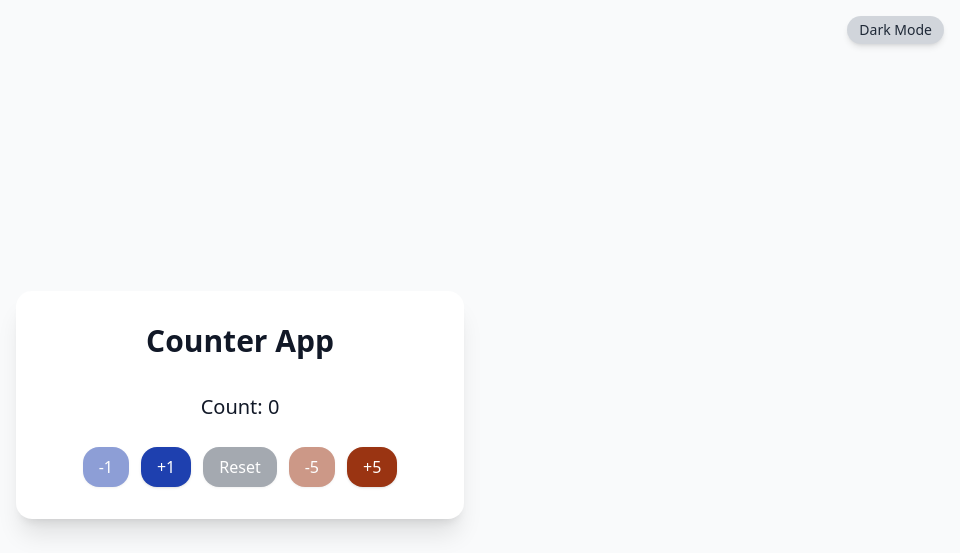
Test case: Counter App › disables the -5 button when count is less than 5
This screenshot has width=960, height=553.
Expected: the button "-5" is disabled, [289,447,335,487]
// Increment to 1, button should still be disabled
Step 1. Click the button "+1" → (166, 467), box [141,447,191,487]
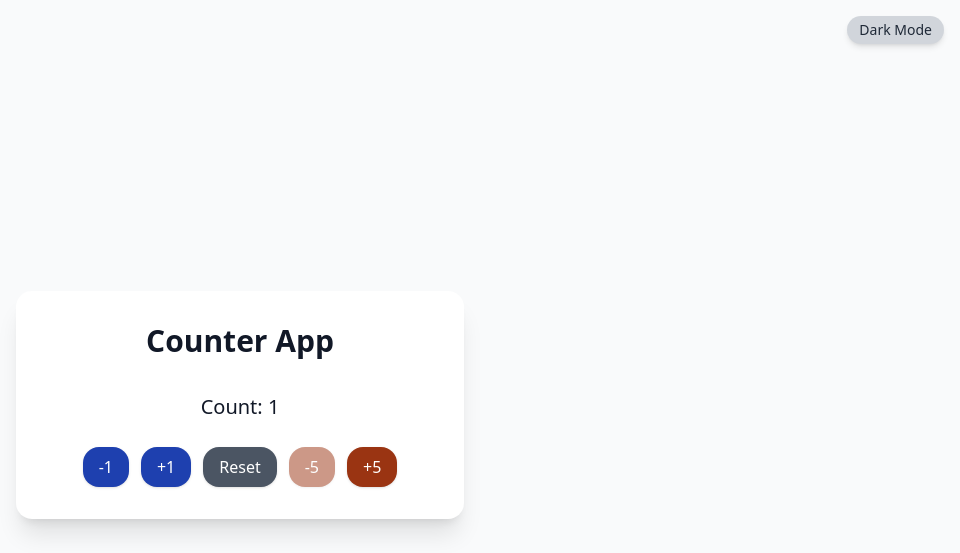
Expected: the button "-5" is disabled, [289,447,335,487]
Now the text "Count: 1" is shown, box [201,393,279,421]
Step 2. Click the button "+1" → (166, 467), box [141,447,191,487]
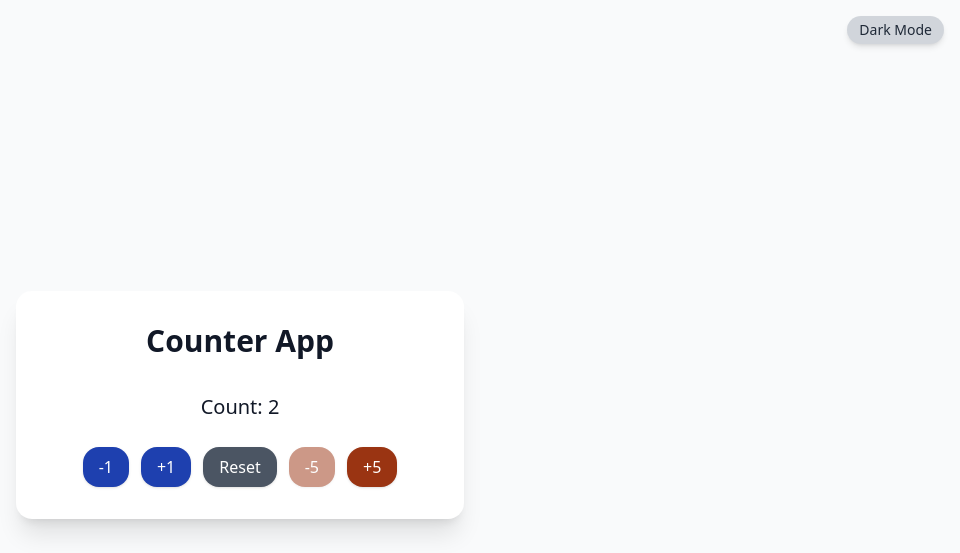
Step 3. Click the button "+1" → (166, 467), box [141,447,191,487]
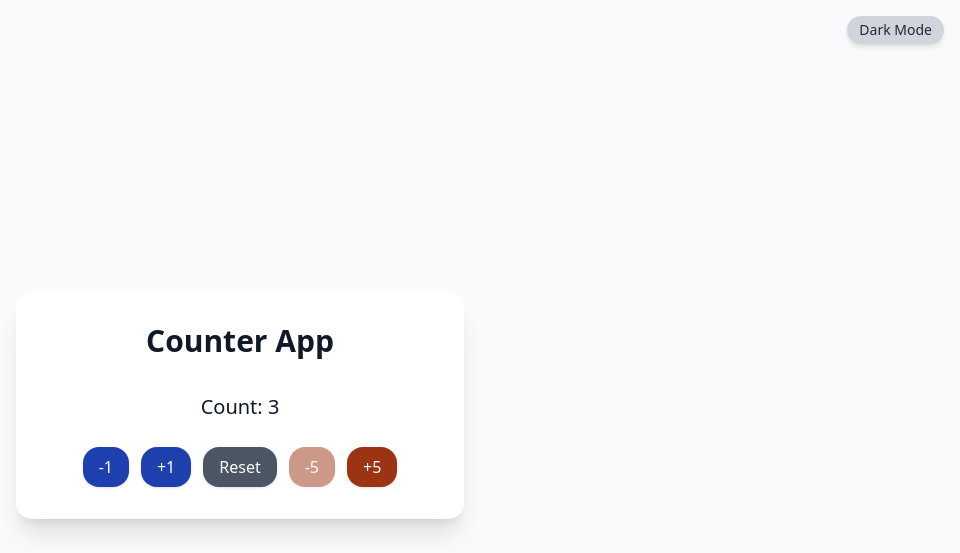
Step 4. Click the button "+1" → (166, 467), box [141,447,191,487]
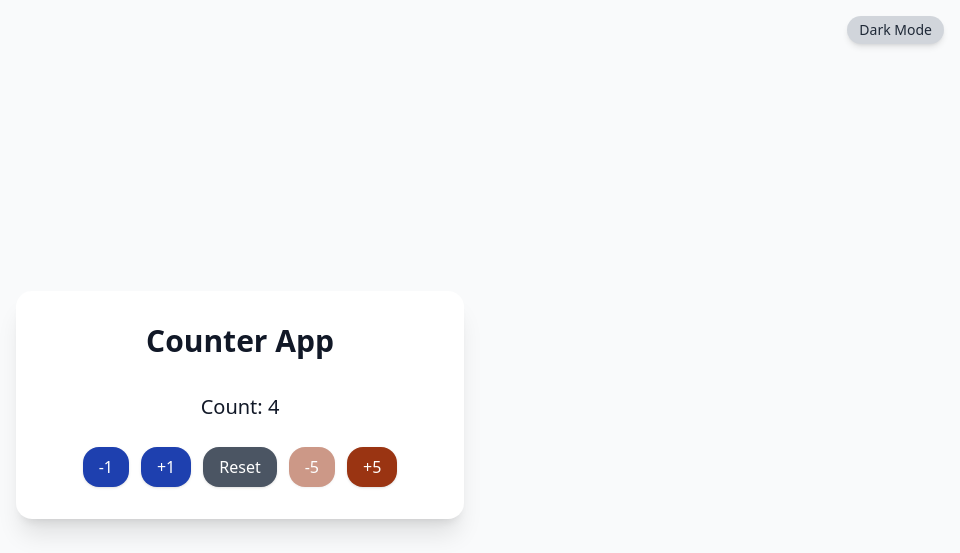
Expected: the button "-5" is disabled, [289,447,335,487]
Now the text "Count: 4" is shown, box [201,393,279,421]
